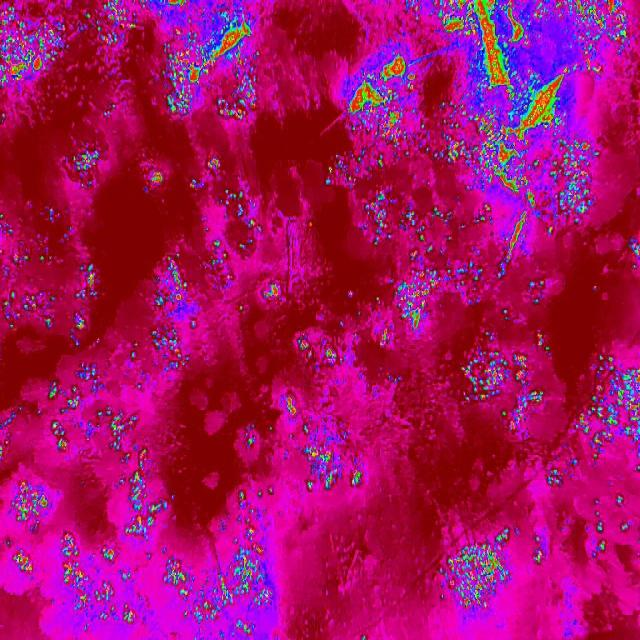fire: (0, 212, 290, 640), (325, 0, 640, 262), (374, 264, 558, 438), (76, 0, 261, 126), (547, 340, 640, 568), (434, 521, 546, 625), (146, 160, 267, 238), (286, 392, 366, 497), (0, 0, 67, 95), (296, 323, 346, 369), (60, 138, 101, 188)
